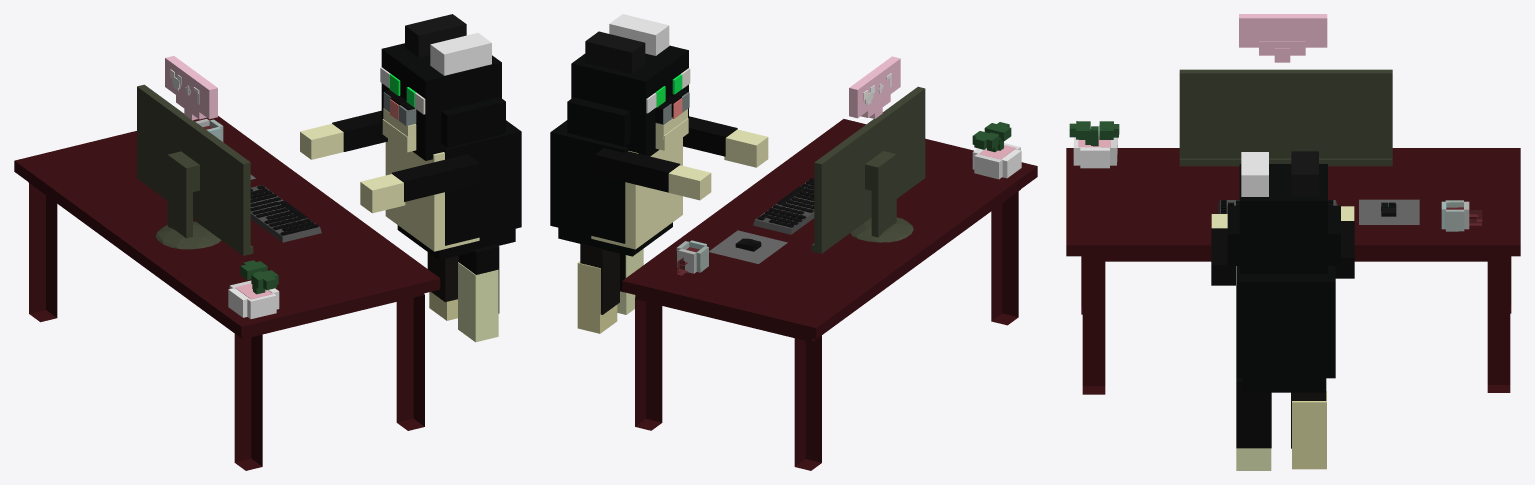
The model's file is Work Space Craft Cats.fbx.
The picture shows the model from 3 angles, left to right: view 1: azimuth 30°, elevation 25°; view 2: azimuth 150°, elevation 25°; view 3: azimuth 270°, elevation 25°; orthographic projection. The views are drawn at different scales.
Visible parts, largest first — view 1: Cube.009, Icosphere, Cube.072, Cube.053, Cube.071, Cube.077, Cube.058, Cube.073, Cube.024, Cube.080, Cube.079, Cube.069 (+9 smaller); view 2: Cube.009, Icosphere, Cube.072, Cube.053, Cube.071, Cube.073, Cube.068, Cube.024, Cube.079, Cube.078, Cube.075, Cube.080 (+10 smaller); view 3: Cube.009, Icosphere, Cube.072, Cube.053, Cube.024, Cube.078, Cube.076, Cube.073, Plane.031, Cube.079, Cube.074, Cube.080 (+5 smaller).
Part boxes in pixels (x1,y1,x2,y2): Cube.009: [14, 116, 440, 470]; Icosphere: [137, 84, 253, 255]; Cube.072: [443, 120, 521, 245]; Cube.053: [381, 43, 501, 160]; Cube.071: [385, 138, 479, 251]; Cube.077: [458, 262, 498, 342]; Cube.058: [392, 154, 479, 201]; Cube.073: [441, 97, 505, 147]; Cube.024: [165, 56, 217, 120]; Cube.080: [430, 33, 491, 75]; Cube.079: [405, 14, 466, 57]; Cube.069: [360, 174, 405, 213]; Cube.009: [622, 119, 1037, 470]; Icosphere: [811, 86, 925, 253]; Cube.072: [550, 120, 628, 243]; Cube.053: [571, 45, 688, 156]; Cube.071: [591, 137, 682, 249]; Cube.073: [567, 97, 630, 146]; Cube.068: [594, 148, 680, 192]; Cube.024: [849, 56, 900, 118]; Cube.079: [585, 31, 645, 73]; Cube.078: [577, 261, 617, 333]; Cube.075: [580, 244, 619, 314]; Cube.080: [609, 14, 669, 55]; Cube.009: [1066, 148, 1520, 394]; Icosphere: [1179, 69, 1392, 166]; Cube.072: [1236, 266, 1335, 378]; Cube.053: [1239, 164, 1327, 273]; Cube.024: [1239, 14, 1327, 62]; Cube.078: [1292, 391, 1326, 469]; Cube.076: [1236, 378, 1271, 448]; Cube.073: [1227, 205, 1340, 265]; Plane.031: [1359, 199, 1419, 224]; Cube.079: [1291, 151, 1318, 196]; Cube.074: [1242, 378, 1325, 392]; Cube.080: [1241, 152, 1268, 196].
Size of what is drawn, in the model's own units: 956 by 790 by 1030.
